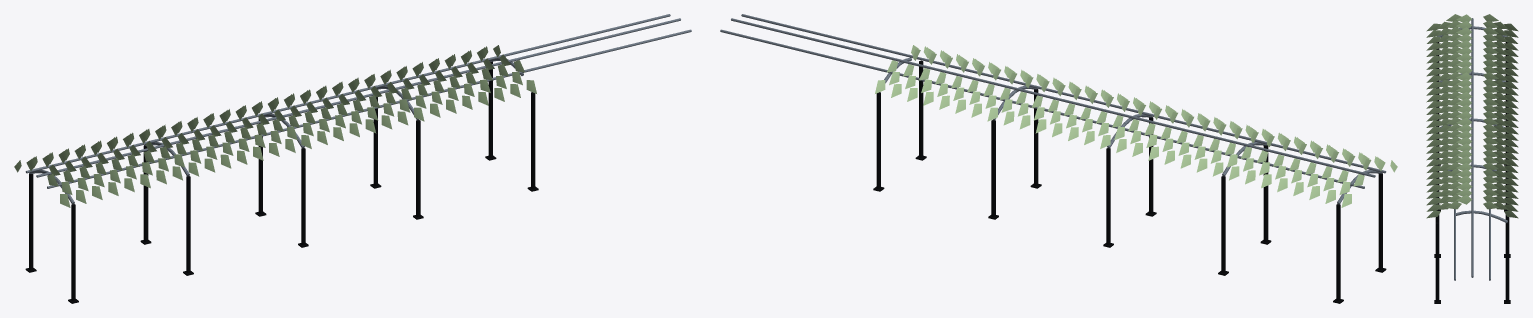
Rendered from tt_bridges_canopy_a.glb.
3 views of the same model, side by side, from view 1: azimuth 30°, elevation 25°; view 2: azimuth 150°, elevation 25°; view 3: azimuth 270°, elevation 25° (orthographic). The views are drawn at different scales.
Visible parts, largest first — view 1: Canopy_Leaves, Canopy_Purlins, Canopy_Posts, Canopy_Ribs; view 2: Canopy_Leaves, Canopy_Purlins, Canopy_Posts, Canopy_Ribs; view 3: Canopy_Leaves, Canopy_Posts, Canopy_Purlins, Canopy_Ribs, Canopy_Footplate.
Boxes of the visible parts, box(x1,y1,x2,y2) form: Canopy_Leaves: box(14, 45, 536, 207); Canopy_Purlins: box(25, 14, 691, 188); Canopy_Posts: box(29, 61, 535, 301); Canopy_Ribs: box(30, 58, 523, 204); Canopy_Leaves: box(875, 45, 1397, 207); Canopy_Purlins: box(720, 14, 1386, 188); Canopy_Posts: box(876, 60, 1382, 301); Canopy_Ribs: box(884, 57, 1381, 204); Canopy_Leaves: box(1426, 14, 1518, 218); Canopy_Posts: box(1435, 42, 1509, 302); Canopy_Purlins: box(1454, 18, 1490, 280); Canopy_Ribs: box(1437, 26, 1507, 222); Canopy_Footplate: box(1434, 119, 1510, 303).
Size of what is drawn, in the model's own units: 16.8 by 3.12 by 2.55.
Materials: 3 (2 with a texture image).
